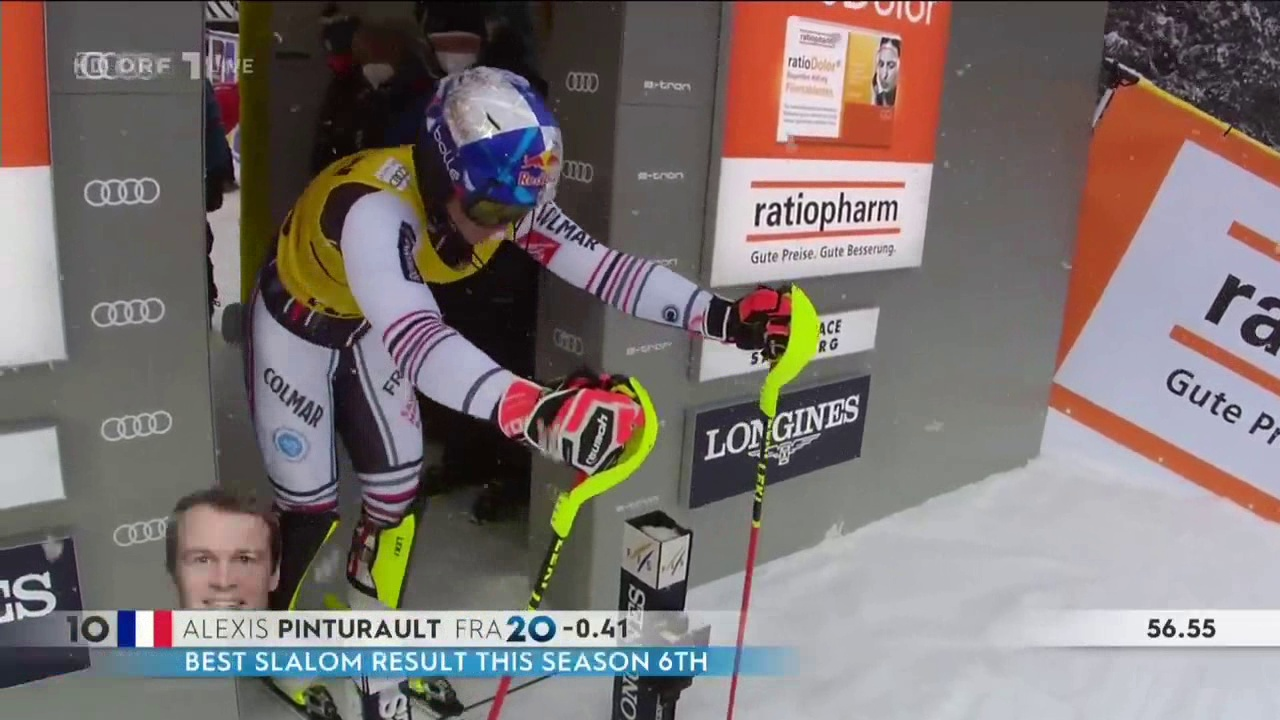audi: (70, 51, 175, 88), (80, 177, 166, 216), (89, 297, 167, 336), (98, 411, 176, 448), (109, 519, 176, 553), (546, 326, 590, 364), (553, 159, 598, 190), (559, 73, 605, 102)
etron: (642, 76, 696, 98), (637, 167, 687, 184), (628, 342, 669, 357)
longines: (706, 398, 866, 482)
ratiopharm: (745, 181, 913, 260)
